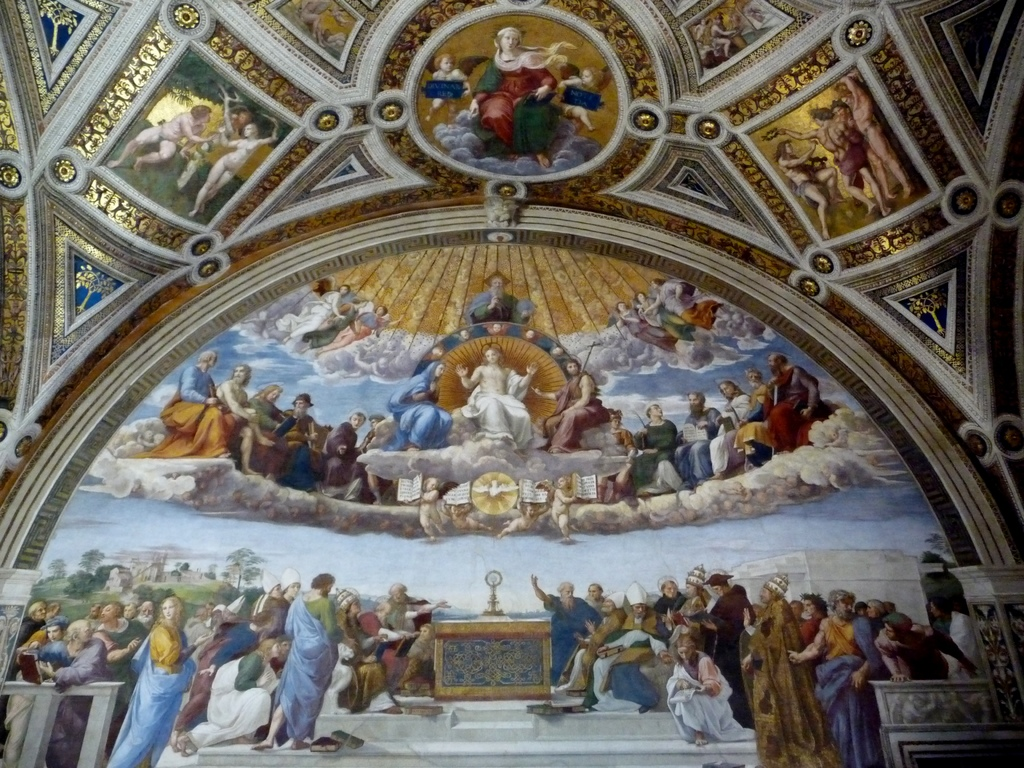Human-face: (497, 31, 521, 52), (159, 600, 178, 621), (481, 347, 499, 363), (564, 362, 579, 377)
